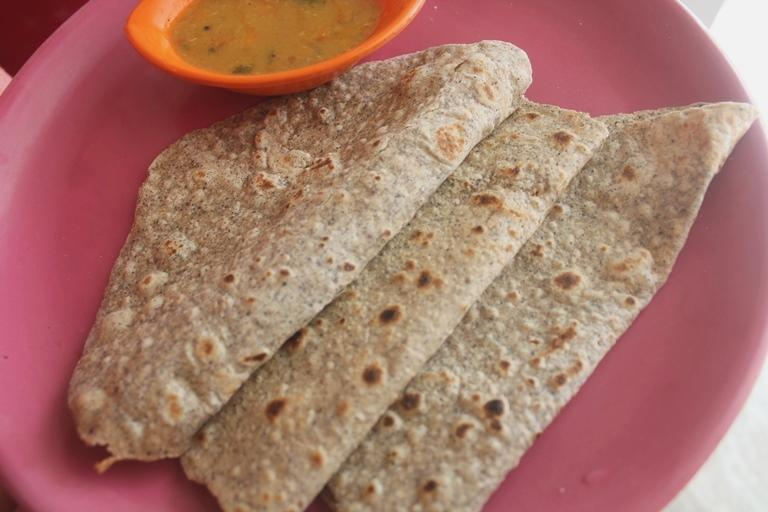chapati: (69, 40, 531, 464), (324, 102, 756, 512), (182, 104, 604, 510)
